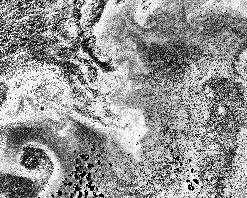CE: (15, 140, 60, 181)
